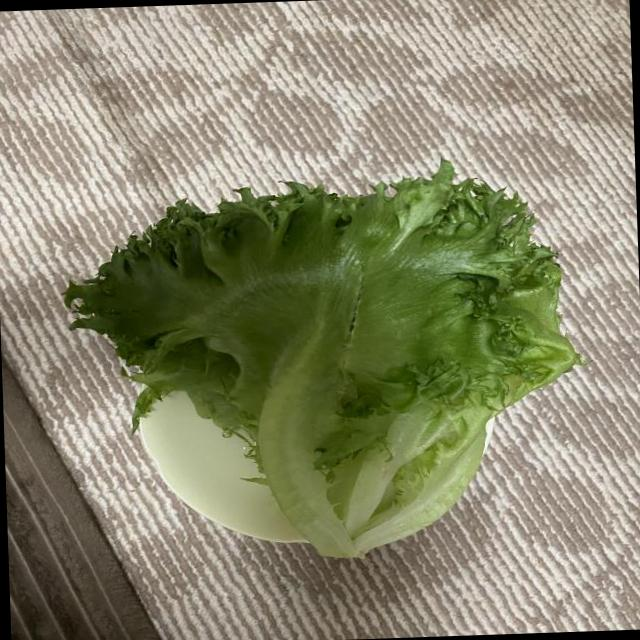Lettuce-Ready-to-Harvest: (65, 162, 579, 555)
